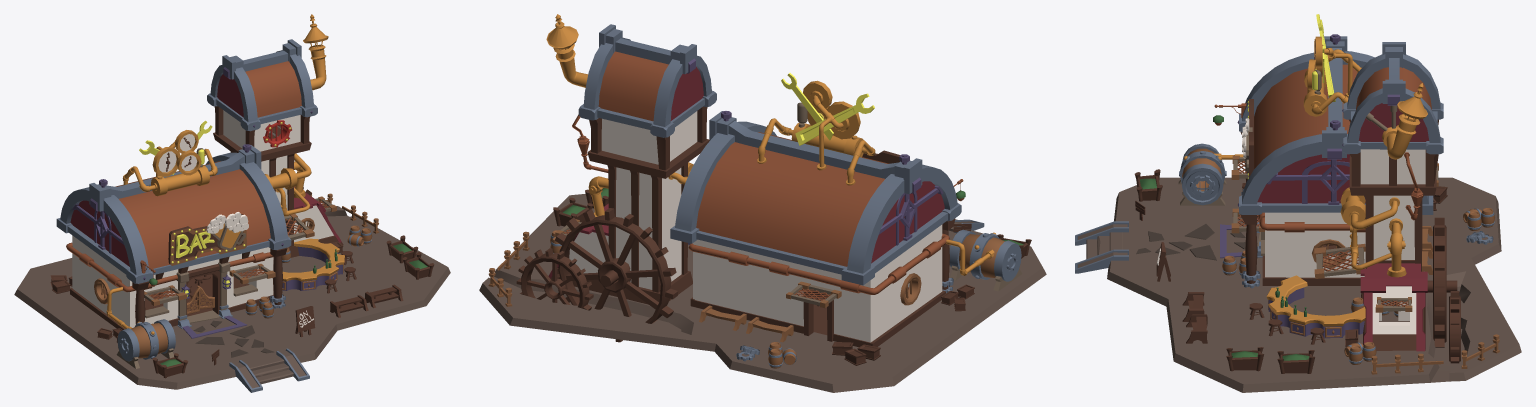
3 renders of one model, left to right at view 1: azimuth 30°, elevation 25°; view 2: azimuth 150°, elevation 25°; view 3: azimuth 270°, elevation 25°, orthographic. The views are drawn at different scales.
Parts seen in each view (by area): view 1: pCube396, polySurface2994, polySurface2944, polySurface2975, polySurface2950, polySurface2148, polySurface2159, polySurface2103, polySurface2973, bar_countertop, polySurface2076, polySurface2226 (+34 smaller); view 2: pCube396, polySurface2994, polySurface2944, polySurface2965, polySurface2218, polySurface2975, polySurface2950, polySurface2159, polySurface2226, polySurface2148, wheel1, polySurface2973 (+33 smaller); view 3: pCube396, polySurface2994, polySurface2944, polySurface2974, polySurface2148, polySurface2218, polySurface2159, polySurface2965, bar_countertop, polySurface2869, polySurface2076, polySurface2950 (+39 smaller).
Part boxes in pixels (x1,y1,x2,y2): pCube396: [14, 205, 450, 389]; polySurface2994: [115, 161, 270, 269]; polySurface2944: [72, 235, 273, 327]; polySurface2975: [245, 61, 301, 117]; polySurface2950: [60, 187, 149, 275]; polySurface2148: [206, 152, 287, 241]; polySurface2159: [223, 110, 300, 151]; polySurface2103: [168, 214, 246, 265]; polySurface2973: [70, 200, 129, 266]; bar_countertop: [282, 238, 344, 281]; polySurface2076: [210, 65, 257, 122]; polySurface2226: [108, 152, 244, 198]; pCube396: [479, 194, 1046, 392]; polySurface2994: [696, 132, 888, 266]; polySurface2944: [693, 224, 942, 342]; polySurface2965: [554, 208, 678, 342]; polySurface2218: [616, 167, 681, 289]; polySurface2975: [598, 51, 668, 121]; polySurface2950: [847, 164, 957, 273]; polySurface2159: [601, 111, 697, 164]; polySurface2226: [728, 121, 898, 178]; polySurface2148: [675, 121, 776, 231]; wheel1: [516, 248, 593, 310]; polySurface2973: [871, 181, 944, 263]; pCube396: [1107, 177, 1521, 392]; polySurface2994: [1254, 64, 1357, 168]; polySurface2944: [1265, 212, 1365, 277]; polySurface2974: [1257, 154, 1365, 203]; polySurface2148: [1242, 134, 1428, 204]; polySurface2218: [1373, 195, 1414, 320]; polySurface2159: [1360, 149, 1425, 184]; polySurface2965: [1433, 217, 1446, 347]; bar_countertop: [1266, 275, 1365, 326]; polySurface2869: [1360, 263, 1427, 292]; polySurface2076: [1347, 54, 1440, 109]; polySurface2950: [1242, 51, 1374, 121].
Bounding box in the file's own units: 37.78 × 25.16 × 34.07.
